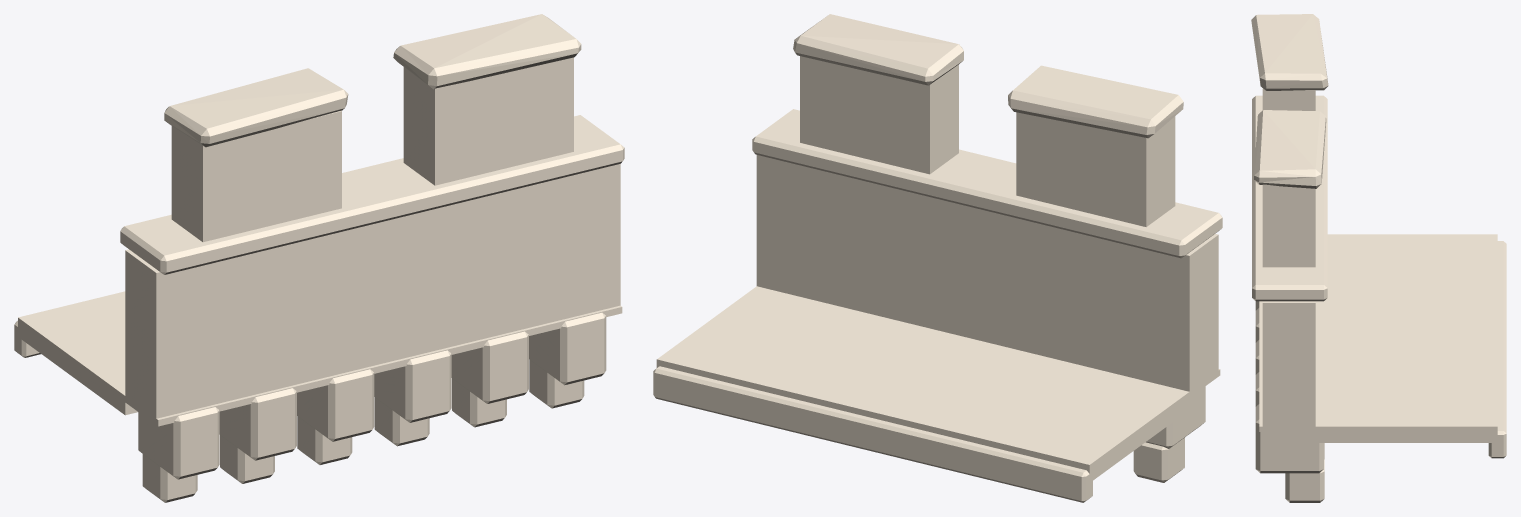
Rendered from SM_VK_Parapet_Crenel.fbx.
The picture shows the model from 3 angles, left to right: view 1: azimuth 30°, elevation 25°; view 2: azimuth 150°, elevation 25°; view 3: azimuth 270°, elevation 25°; orthographic projection. The views are drawn at different scales.
Visible parts, largest first — view 1: SM_VK_Parapet_Crenel.001; view 2: SM_VK_Parapet_Crenel.001; view 3: SM_VK_Parapet_Crenel.001.
Boxes of the visible parts, bbox=[...] form: SM_VK_Parapet_Crenel.001: bbox=[14, 14, 624, 502]; SM_VK_Parapet_Crenel.001: bbox=[653, 14, 1222, 502]; SM_VK_Parapet_Crenel.001: bbox=[1251, 14, 1506, 502].
Size of the model in its own units: 3 by 2.37 by 1.68.
